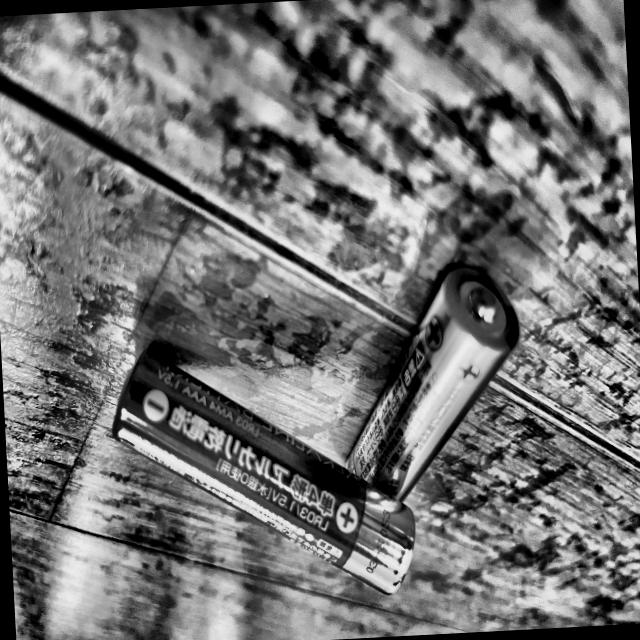drycell: (103, 326, 432, 608), (334, 248, 538, 538)
